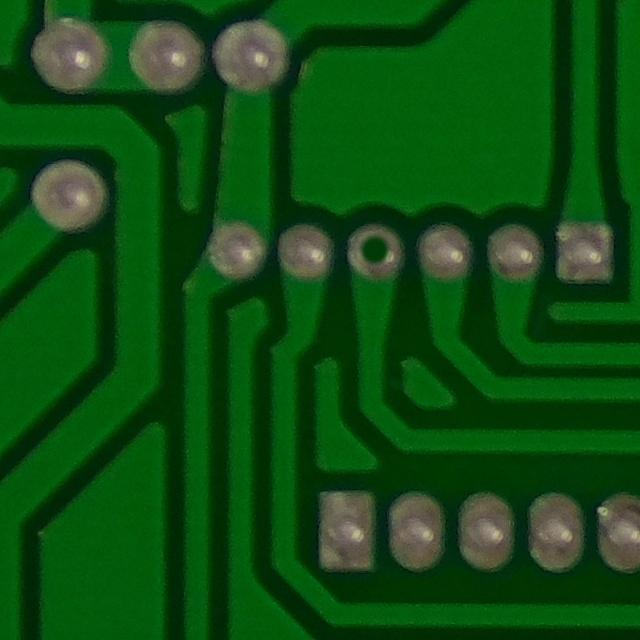missing_hole: (335, 218, 413, 291)
